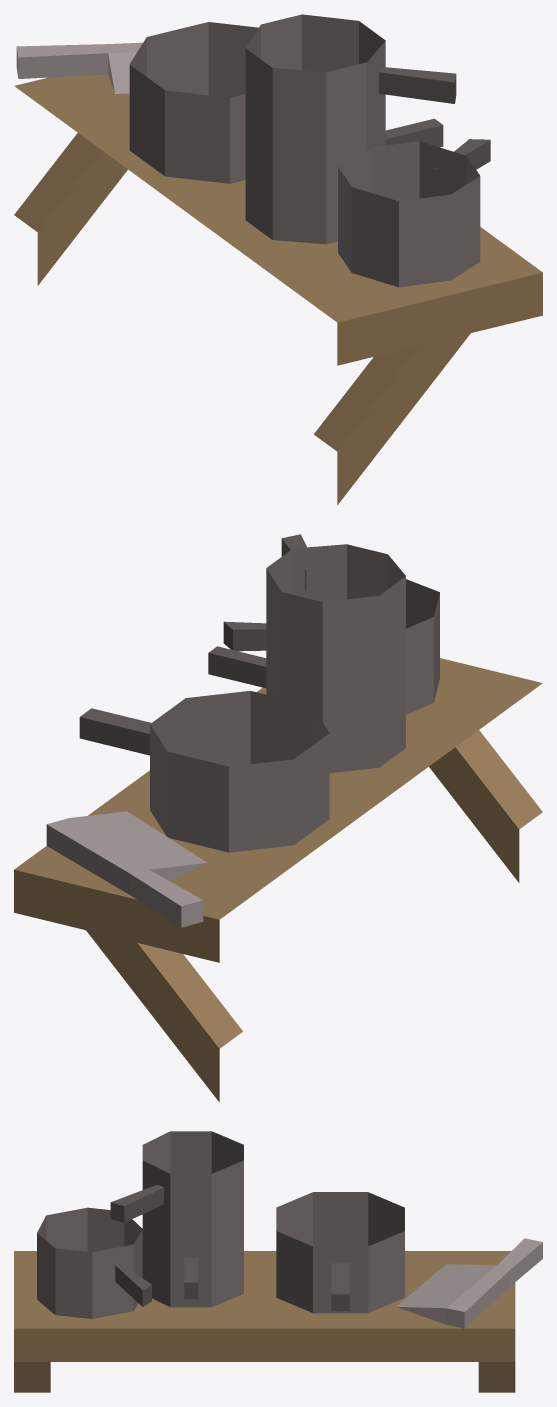
The picture shows the model from 3 angles, top to bottom: view 1: azimuth 30°, elevation 25°; view 2: azimuth 150°, elevation 25°; view 3: azimuth 270°, elevation 25°; orthographic projection. The views are drawn at different scales.
Bounding box in the file's own units: 48 × 66 × 115.
1 material, 1 textured.
